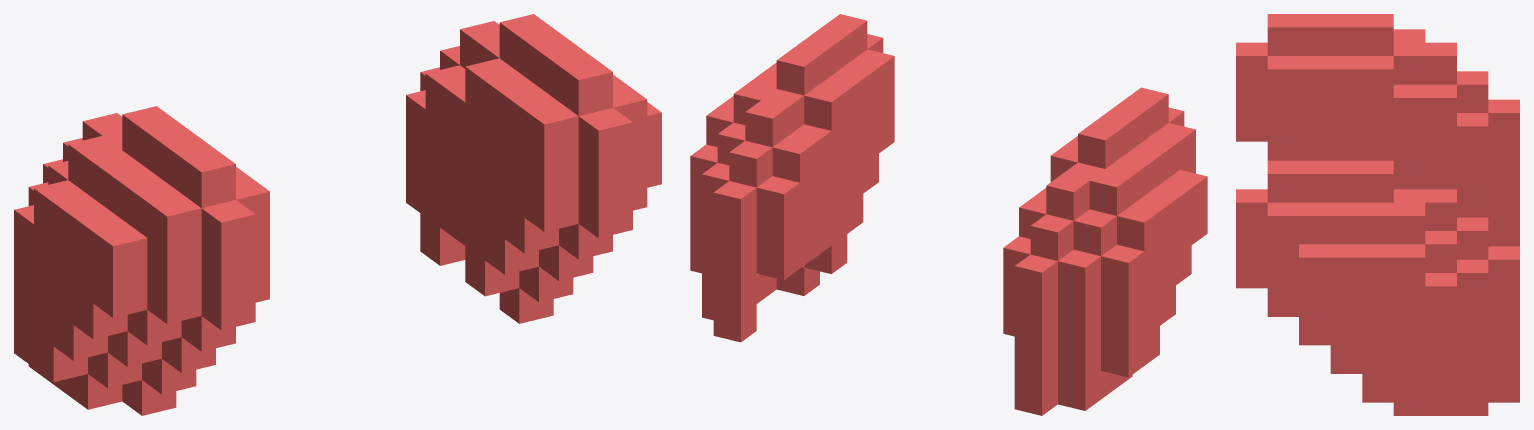
File: MejoraValquiria-1.obj
3 views of the same model, side by side, from view 1: azimuth 30°, elevation 25°; view 2: azimuth 150°, elevation 25°; view 3: azimuth 270°, elevation 25° (orthographic). The views are drawn at different scales.
Size of the model in its own units: 1.6 by 0.8 by 0.9.
1 material, 1 textured.
